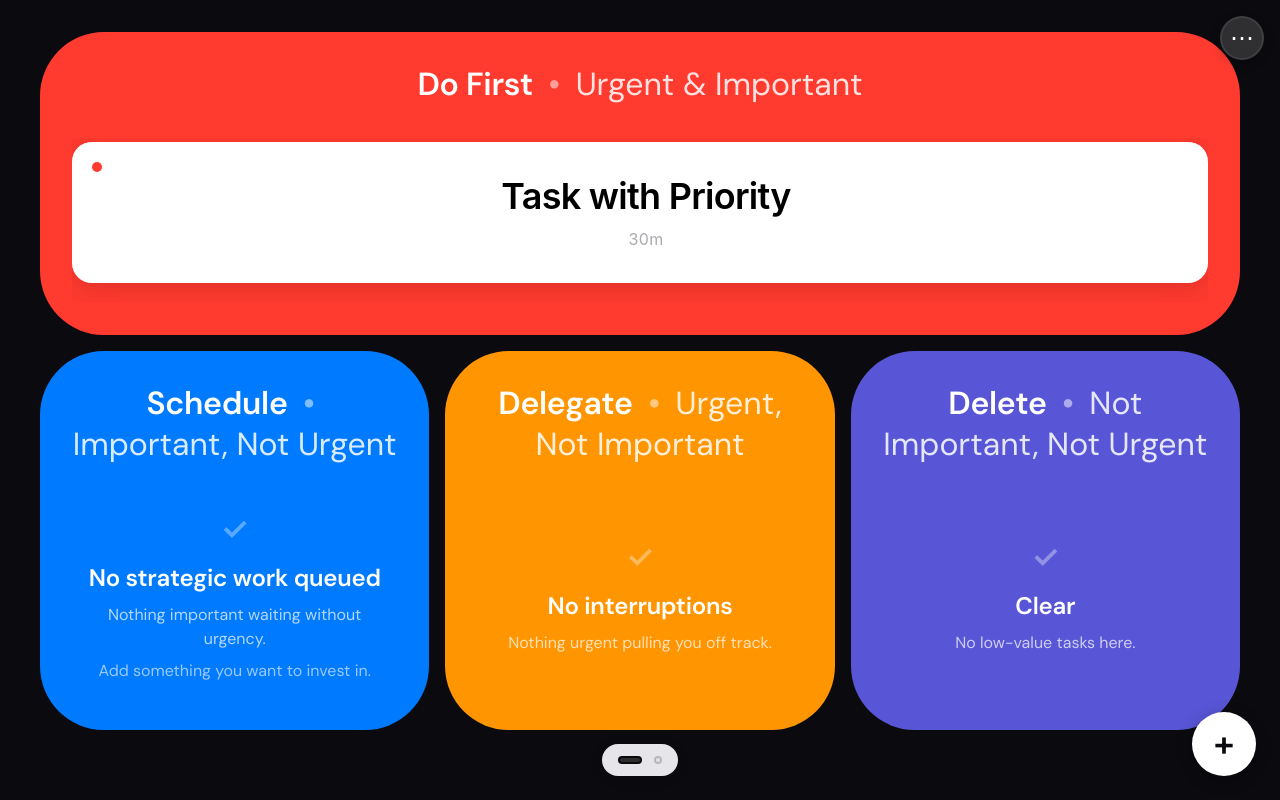
Test case: Right Now View › displays priority badge when present
Click the button with test id "page-dot-rightNow" at (658, 760), box [654,756,662,764]
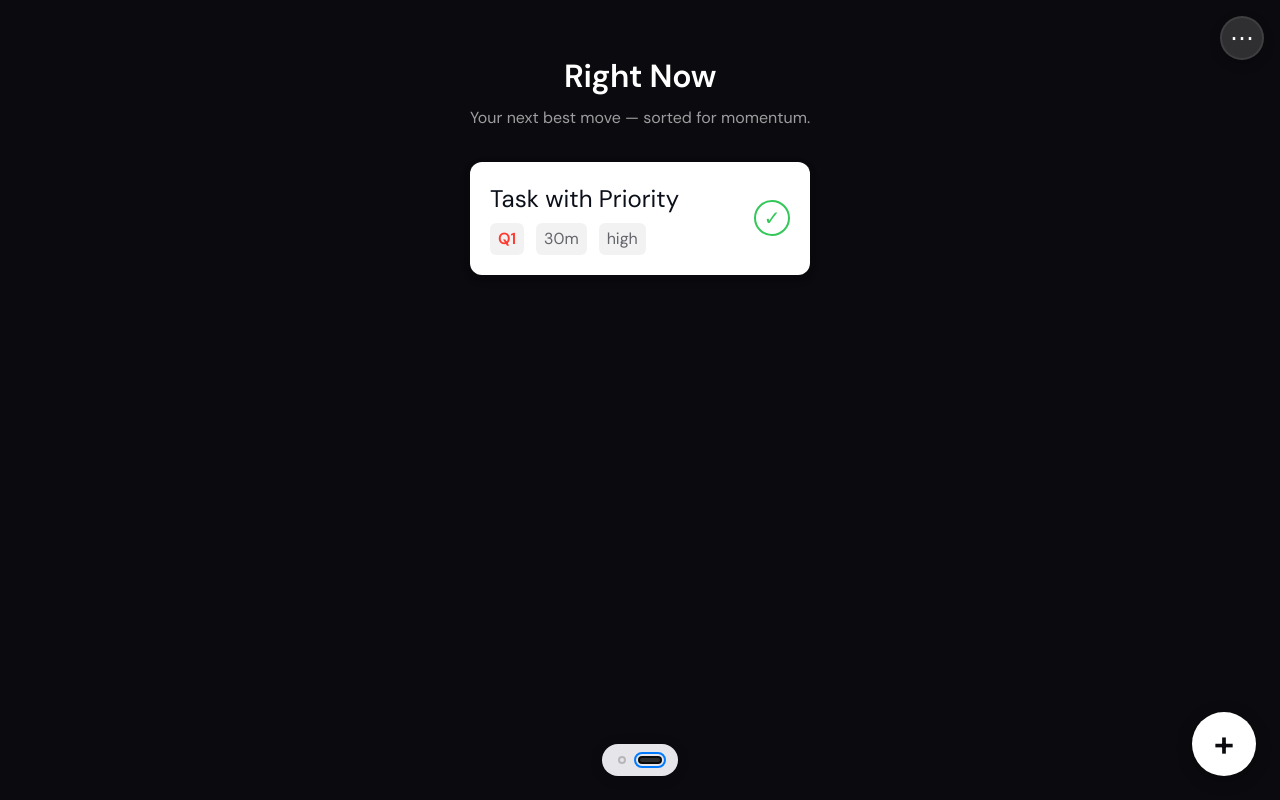
expect the element with test id "right-now-view" is shown: met, box [446,32,834,299]
expect the text with test id "right-now-priority-1" reads "high": met, box [607,228,638,249]
